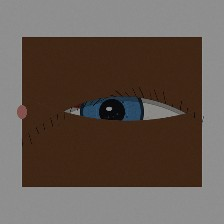hemorrhage_spot: (46, 63, 125, 125)
